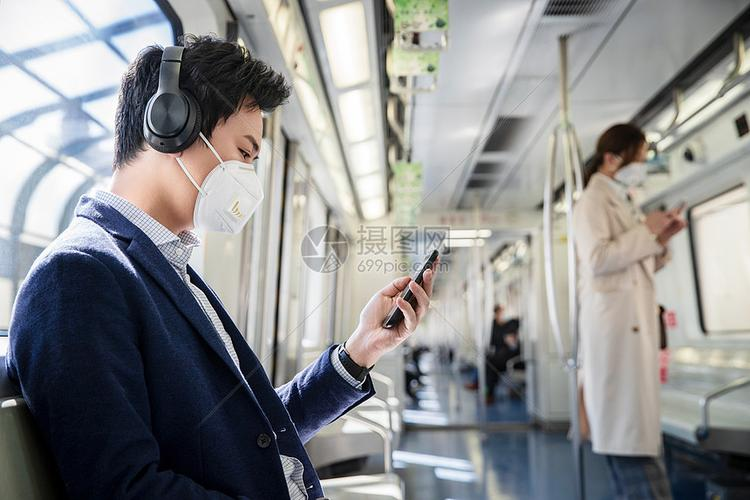mask: (186, 81, 271, 237), (614, 132, 651, 184)
